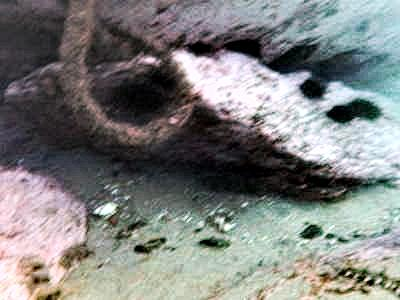urchin: (102, 76, 177, 116), (349, 99, 379, 120), (300, 79, 330, 99), (326, 104, 354, 123)
